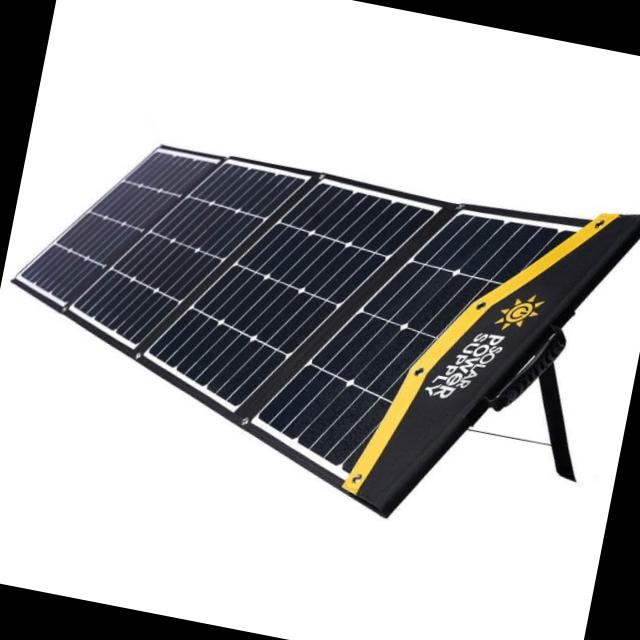no faulty: (7, 142, 550, 474)
